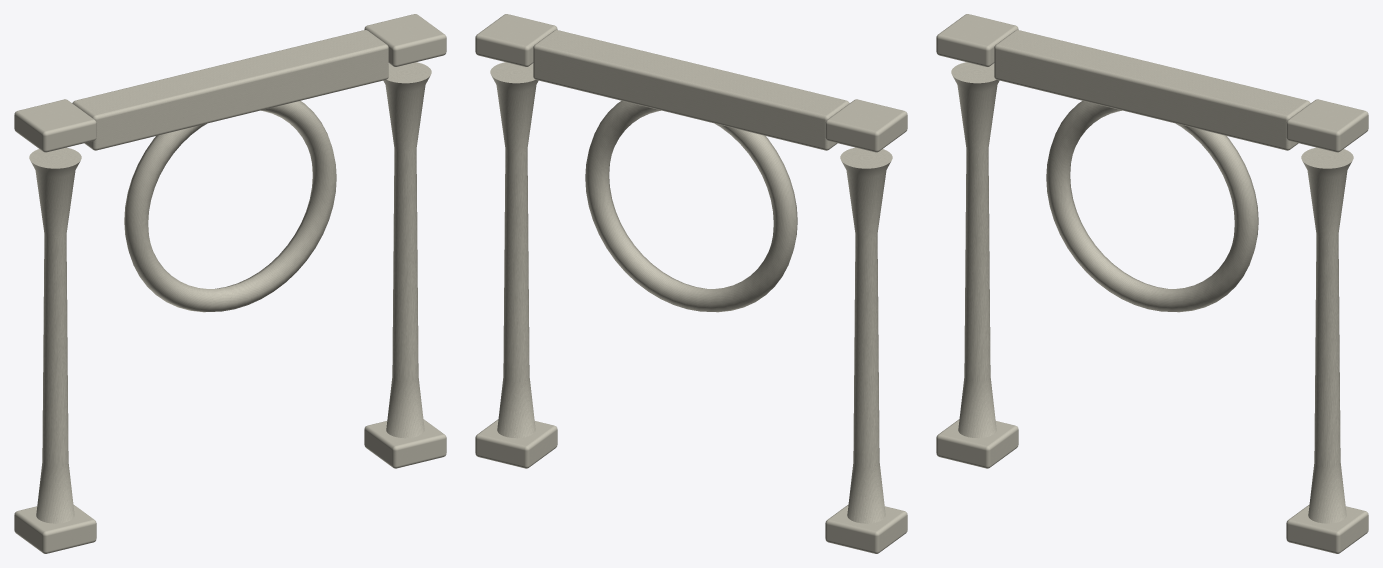
Rendered from arcane-academy-and-spell-trials-arcade-straight-75da246a__28280.glb.
3 views of the same model, side by side, from view 1: azimuth 30°, elevation 25°; view 2: azimuth 150°, elevation 25°; view 3: azimuth 330°, elevation 25° (orthographic).
Parts seen in each view (by area): view 1: arcade-straight; view 2: arcade-straight; view 3: arcade-straight.
Boxes of the visible parts, x1=… form: arcade-straight: x1=14, y1=14, x2=446, y2=553; arcade-straight: x1=475, y1=14, x2=907, y2=553; arcade-straight: x1=936, y1=14, x2=1368, y2=553.
Size of the model in its own units: 3 by 3 by 0.3999.
Materials: 1 (1 with a texture image).
